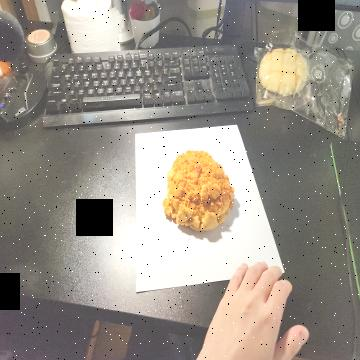soboru_bread: (164, 151, 233, 235)
